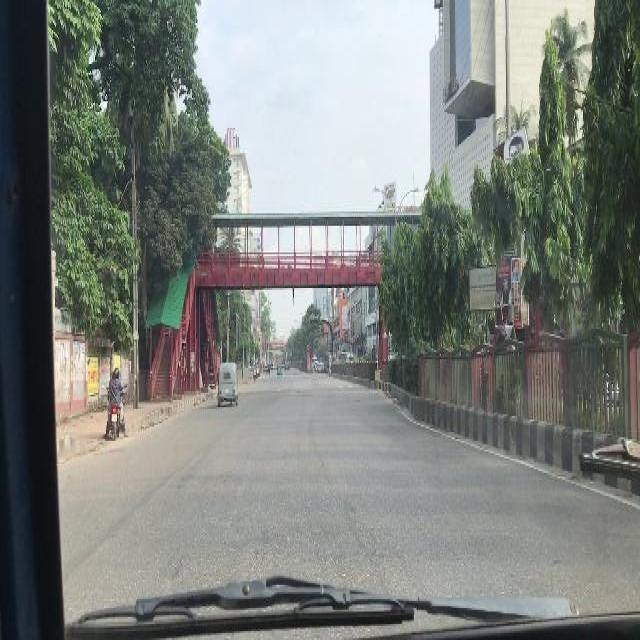10: (106, 393, 120, 439)
17: (216, 363, 238, 409), (276, 363, 280, 373)
Truck: (324, 351, 336, 371), (340, 350, 352, 361)
